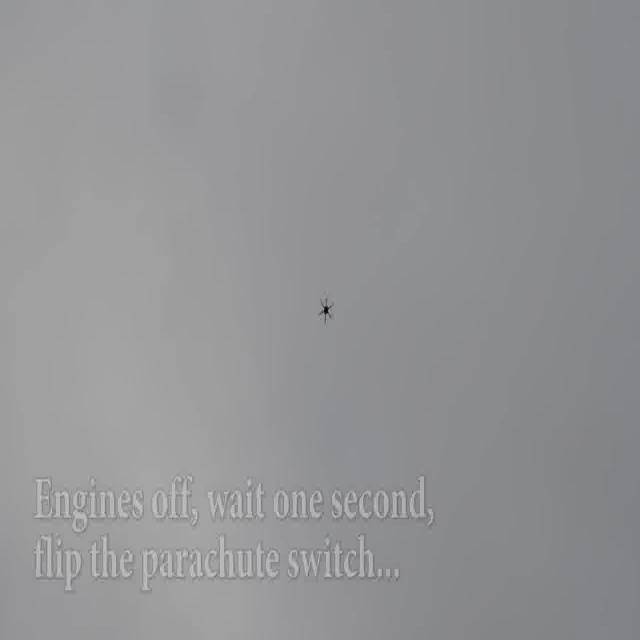drone: (316, 294, 334, 324)
